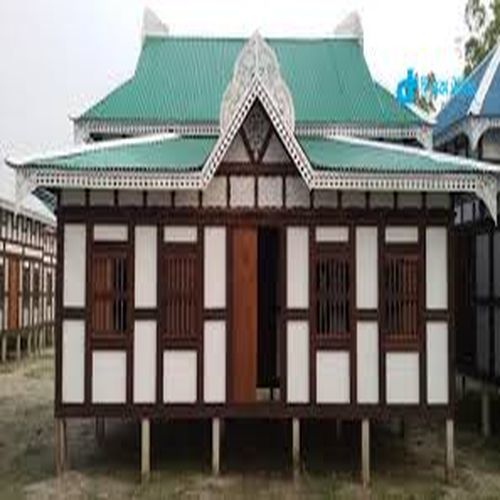Tin-shade House: (14, 22, 478, 420)
